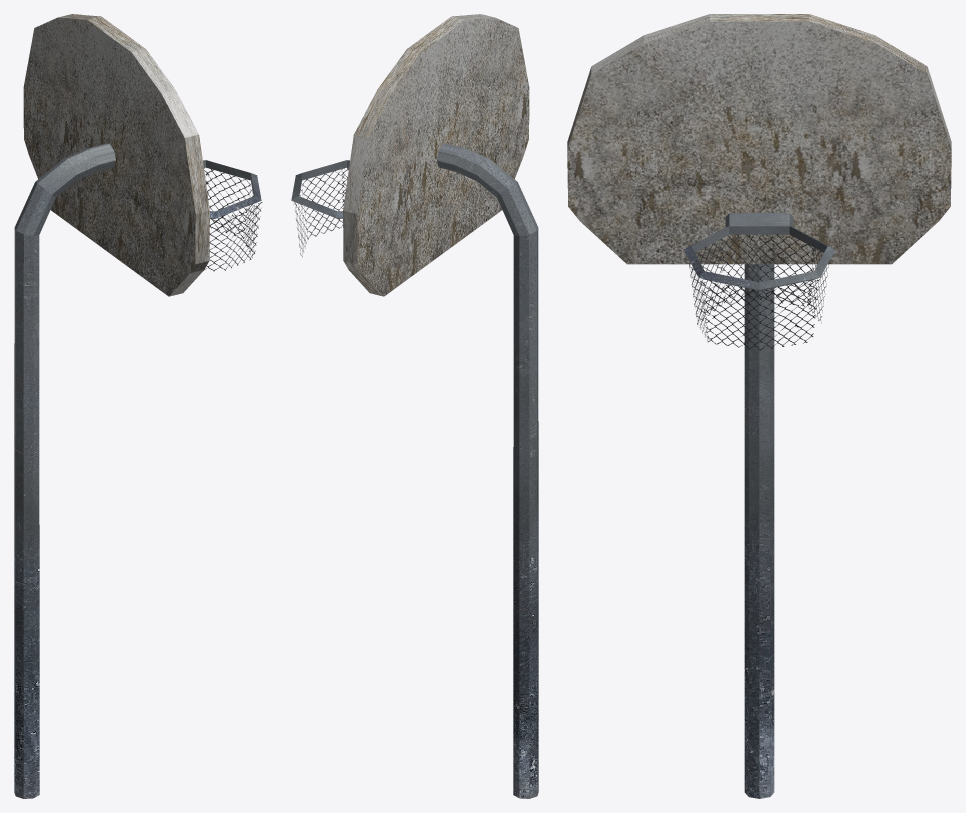
Rendered from basketballpole.glb.
The picture shows the model from 3 angles, left to right: view 1: azimuth 30°, elevation 25°; view 2: azimuth 150°, elevation 25°; view 3: azimuth 270°, elevation 25°; orthographic projection. The views are drawn at different scales.
Visible parts, largest first — view 1: Cube, Cylinder, fencemeshtext, Torus; view 2: Cube, Cylinder, fencemeshtext, Torus; view 3: Cube, Cylinder, fencemeshtext, Torus.
Part boxes in pixels (left/top/right/bottom): Cube: left=23, top=14, right=209, bottom=296; Cylinder: left=14, top=143, right=115, bottom=798; fencemeshtext: left=204, top=168, right=262, bottom=271; Torus: left=203, top=160, right=261, bottom=218; Cube: left=343, top=14, right=529, bottom=296; Cylinder: left=437, top=143, right=538, bottom=798; fencemeshtext: left=293, top=167, right=348, bottom=256; Torus: left=291, top=160, right=349, bottom=218; Cube: left=567, top=14, right=951, bottom=264; Cylinder: left=744, top=264, right=774, bottom=798; fencemeshtext: left=689, top=234, right=828, bottom=350; Torus: left=684, top=213, right=834, bottom=290.
Bounding box in the file's own units: 5.2 × 15.17 × 6.42.
Materials: 3 (3 with a texture image).
